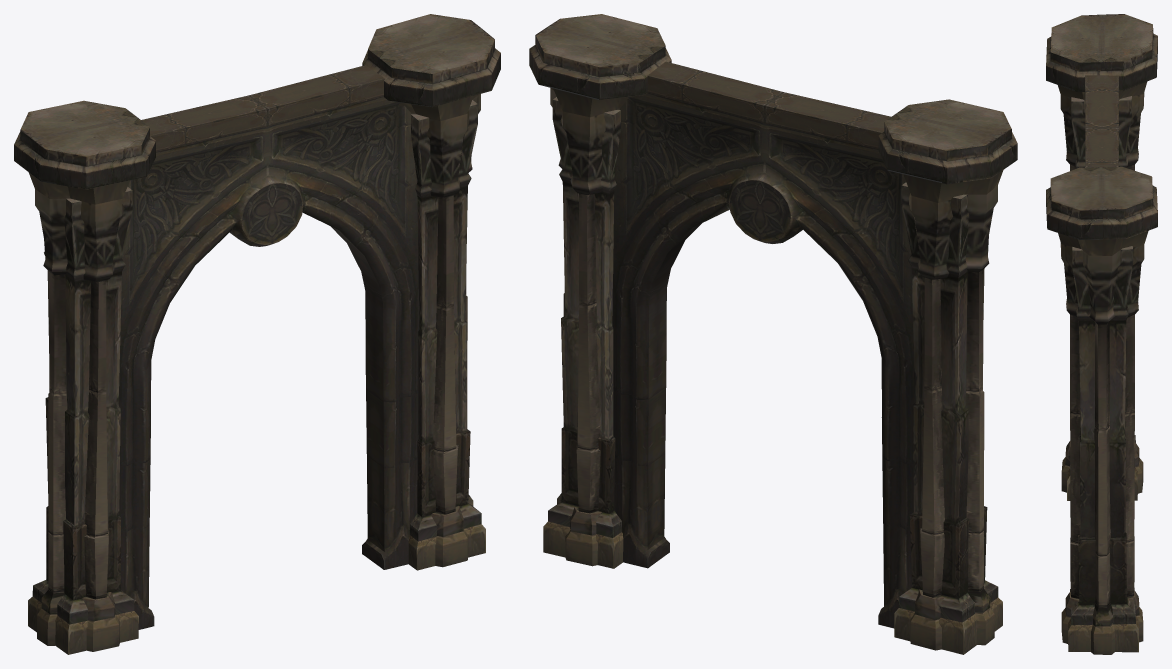
The model's file is hazz_gq_01.FBX.
3 views of the same model, side by side, from view 1: azimuth 30°, elevation 25°; view 2: azimuth 150°, elevation 25°; view 3: azimuth 270°, elevation 25° (orthographic). The views are drawn at different scales.
Visible parts, largest first — view 1: hazz_gq_01; view 2: hazz_gq_01; view 3: hazz_gq_01.
Boxes of the visible parts, x1=… form: hazz_gq_01: x1=14, y1=14, x2=500, y2=654; hazz_gq_01: x1=529, y1=14, x2=1017, y2=654; hazz_gq_01: x1=1046, y1=14, x2=1157, y2=654.
Size of the model in its own units: 785 by 824 by 186.
